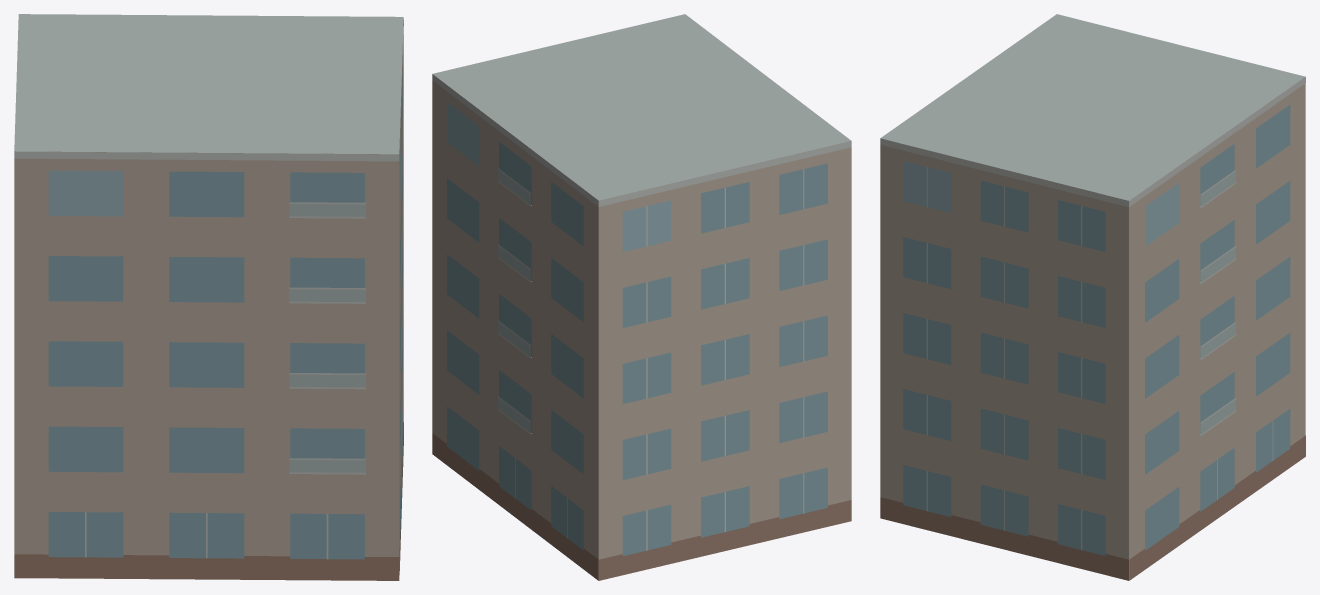
File: survey-upis-32777501.glb
3 renders of one model, left to right at view 1: azimuth 30°, elevation 25°; view 2: azimuth 150°, elevation 25°; view 3: azimuth 270°, elevation 25°, orthographic. The views are drawn at different scales.
Parts seen in each view (by area): view 1: survey-upis-32777501.tmp; view 2: survey-upis-32777501.tmp; view 3: survey-upis-32777501.tmp.
Boxes of the visible parts, <box> form: survey-upis-32777501.tmp: <box>14,14,403,580</box>; survey-upis-32777501.tmp: <box>432,14,851,580</box>; survey-upis-32777501.tmp: <box>880,14,1305,580</box>.
Size of the model in its own units: 15.41 by 14.6 by 14.83.
